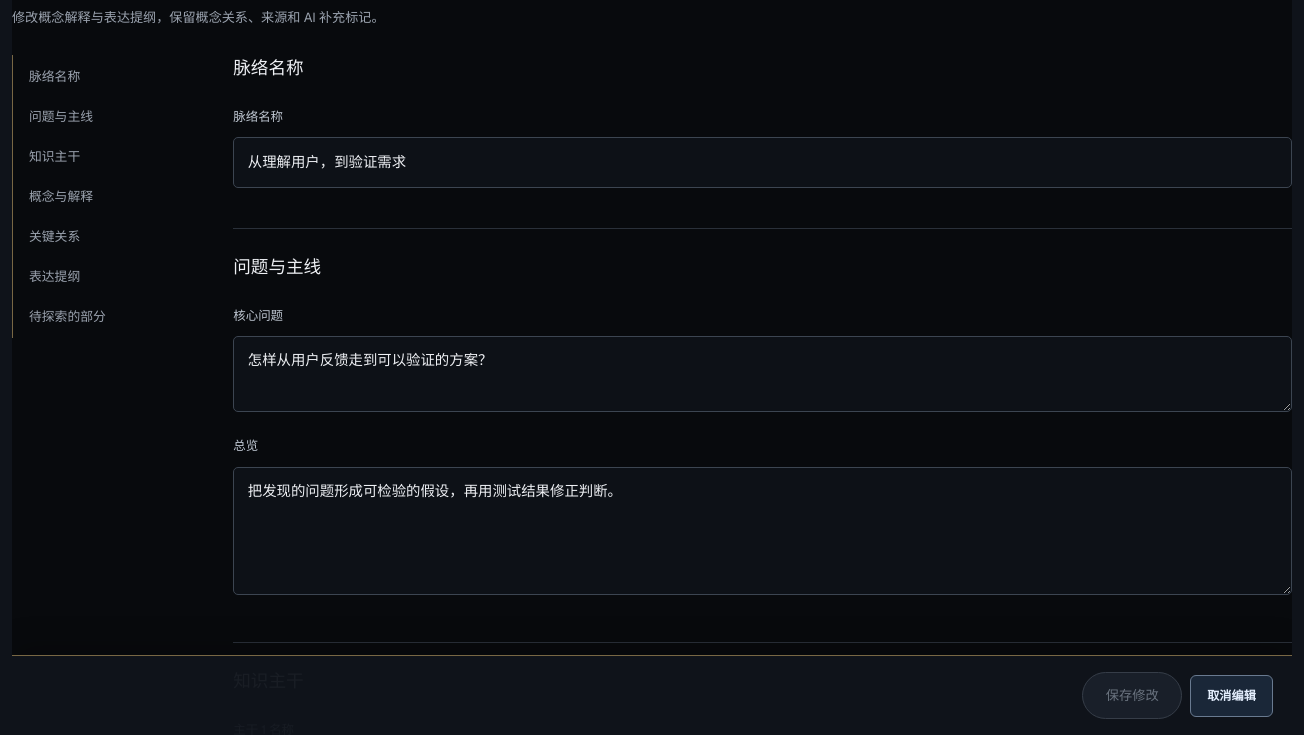
Test case: retains a concept-map draft on revision conflict
Replace the text in the text box labelled "总览" with "尚未保存的理解" at [763, 531], box [233,467,1292,595]
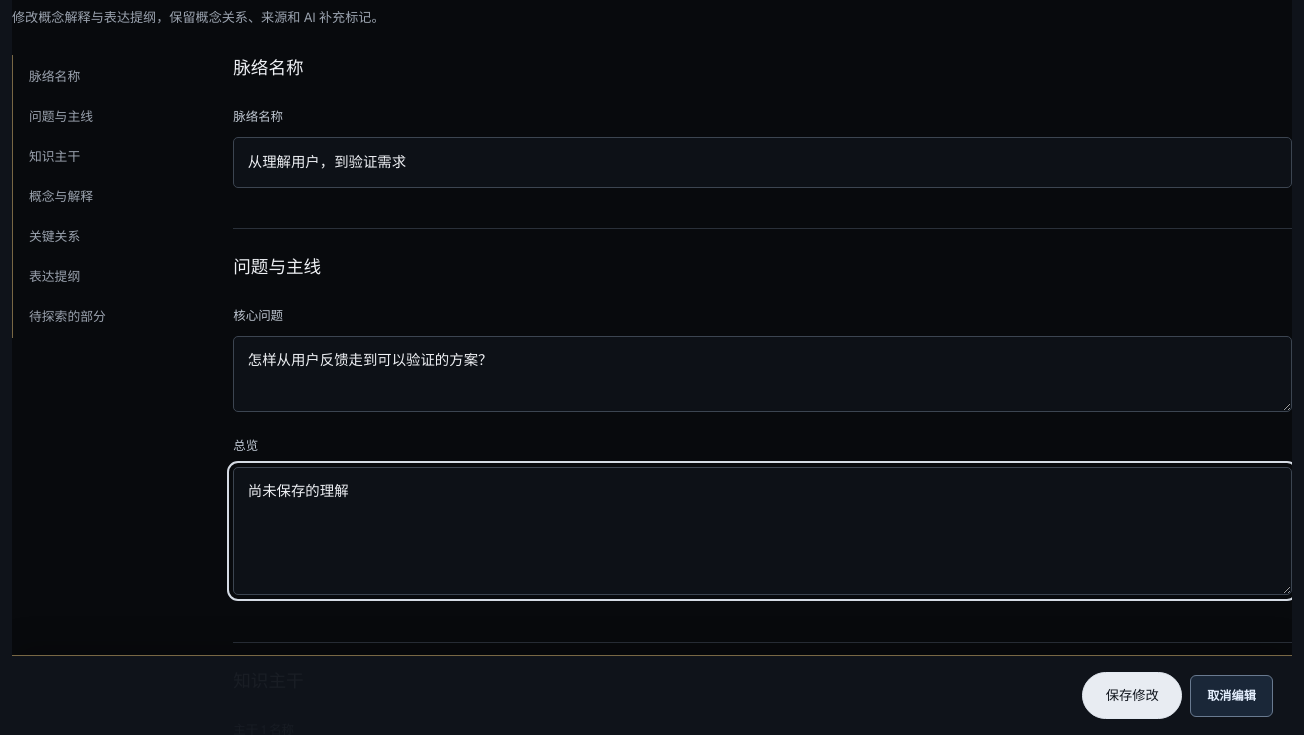
Click the button "保存修改" at [1132, 696], box [1082,673,1182,719]
(page scrolled)
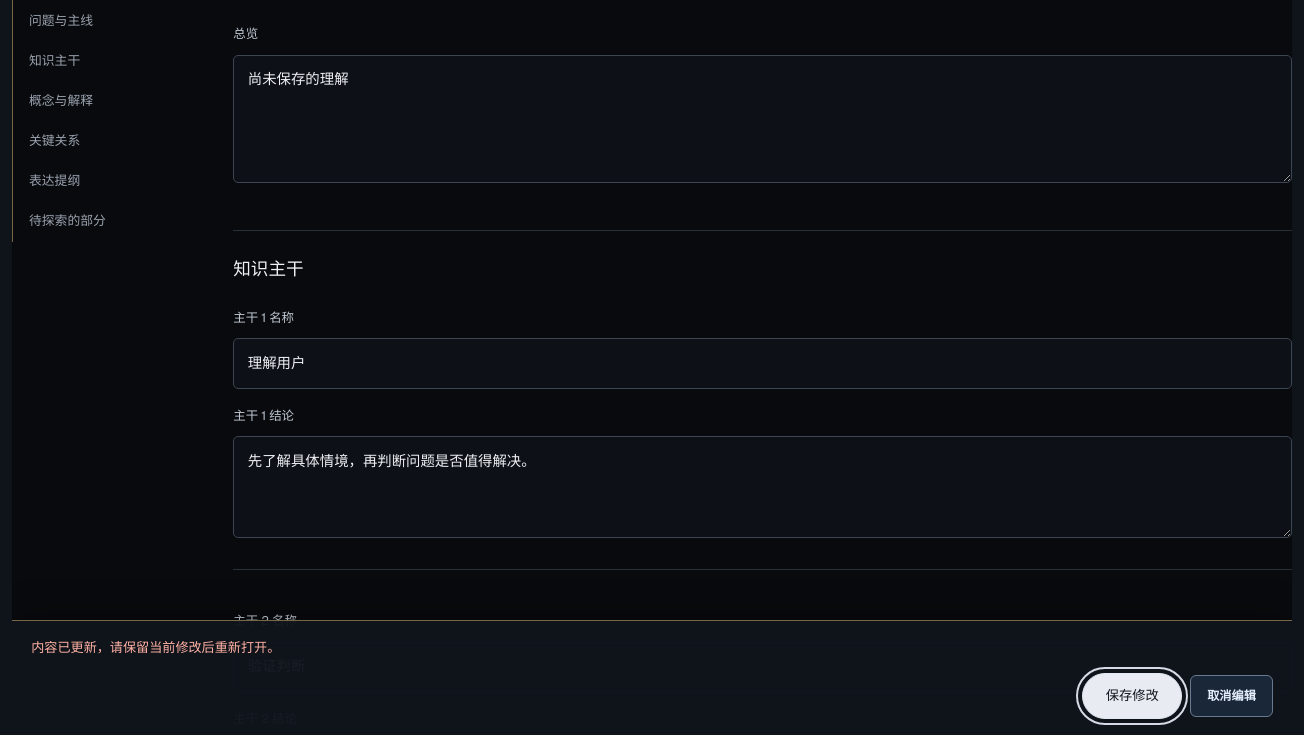
Check: the message shows "内容已更新", box [31,640,280,656]
